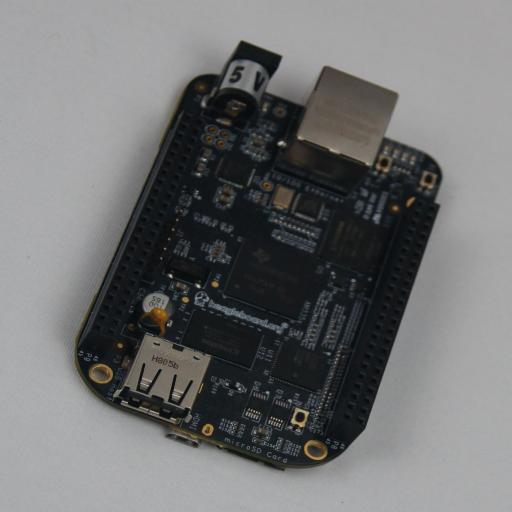Beaglebone Black: (74, 40, 442, 472)
